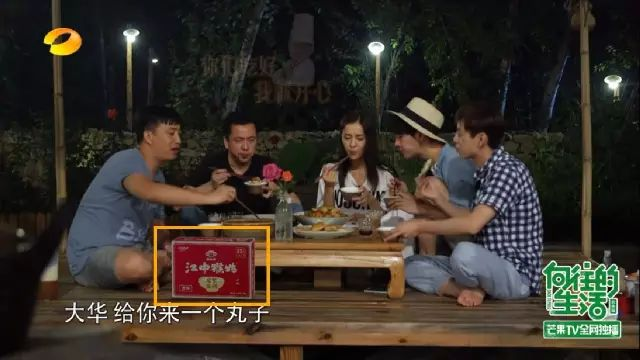box: (171, 239, 255, 300)
